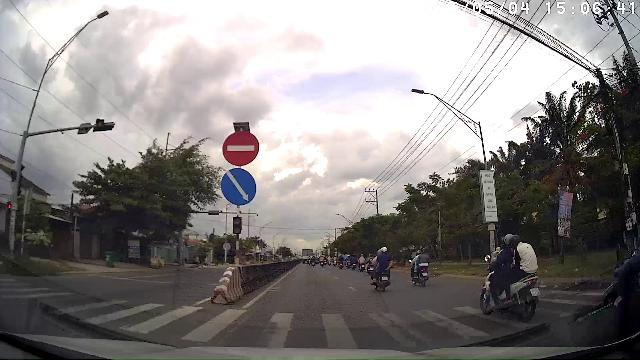102-cam-di-nguoc-chieu: (222, 130, 260, 166)
302a-huong-phai-di-vong-chuong-ngai-vat-1: (221, 167, 257, 205)
